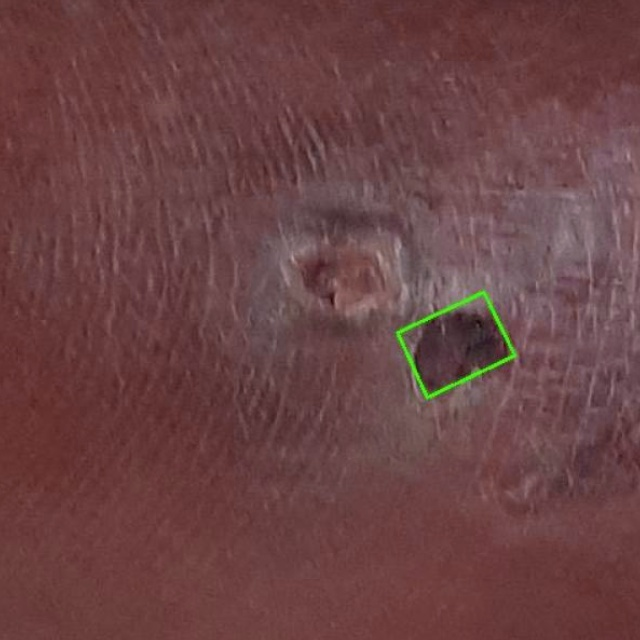Eczema: (396, 292, 514, 397)
